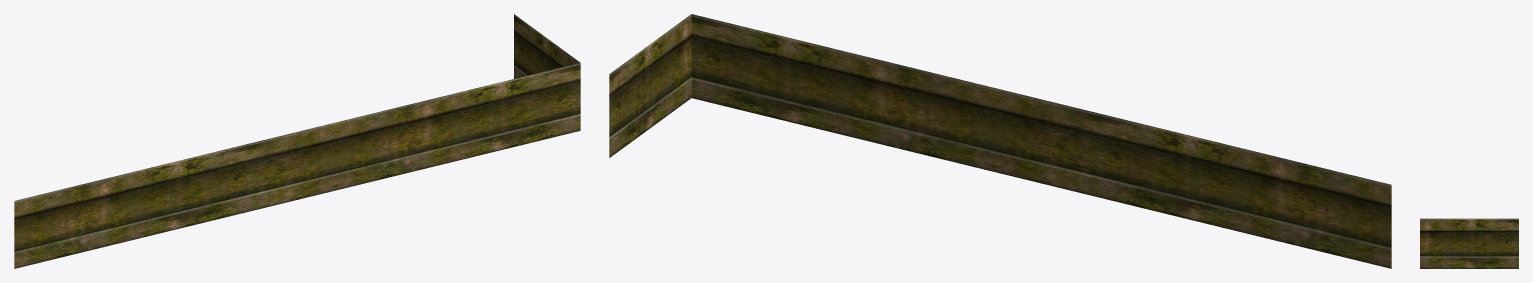
Rendered from OVERHILL_A_01_OBJECT137.fbx.
The picture shows the model from 3 angles, left to right: view 1: azimuth 30°, elevation 25°; view 2: azimuth 150°, elevation 25°; view 3: azimuth 270°, elevation 25°; orthographic projection. The views are drawn at different scales.
Visible parts, largest first — view 1: OVERHILL_A_01_OBJECT137; view 2: OVERHILL_A_01_OBJECT137; view 3: OVERHILL_A_01_OBJECT137.
Boxes of the visible parts, <box> form: OVERHILL_A_01_OBJECT137: <box>14,14,580,268</box>; OVERHILL_A_01_OBJECT137: <box>609,14,1391,268</box>; OVERHILL_A_01_OBJECT137: <box>1420,218,1518,268</box>.
Size of the model in its own units: 49061 by 5634 by 10000.
Materials: 1 (1 with a texture image).
